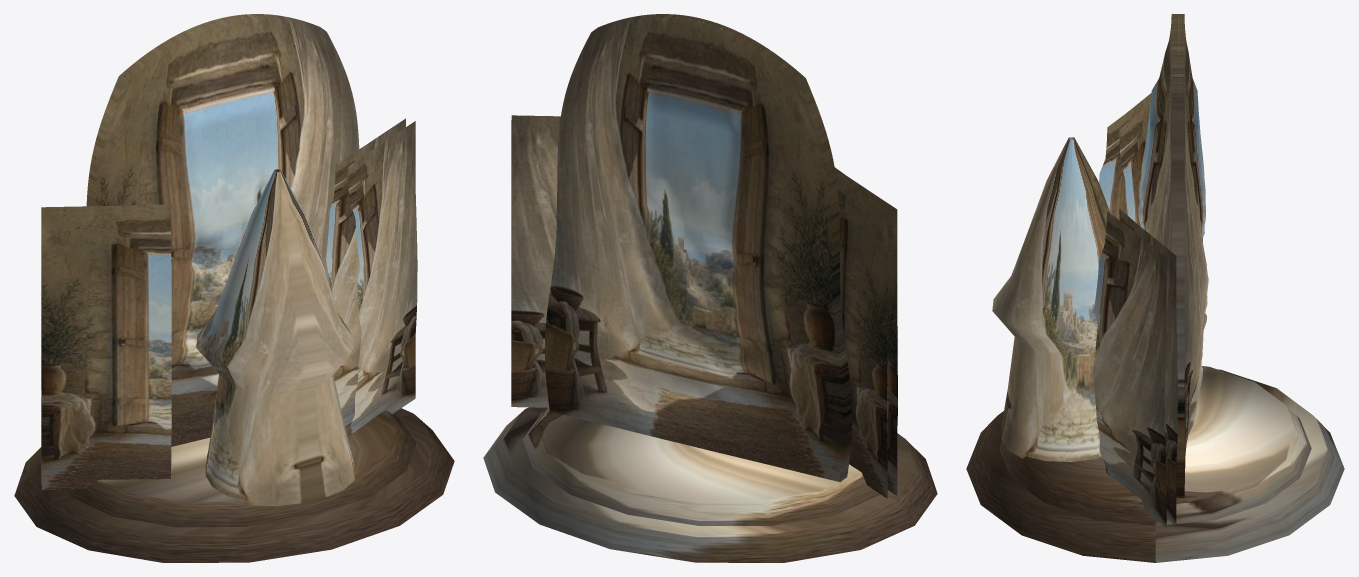
Rendered from little-children-25.glb.
3 views of the same model, side by side, from view 1: azimuth 30°, elevation 25°; view 2: azimuth 150°, elevation 25°; view 3: azimuth 270°, elevation 25° (orthographic). The views are drawn at different scales.
Visible parts, largest first — view 1: PaintingSculptureMonument; view 2: PaintingSculptureMonument; view 3: PaintingSculptureMonument.
Part boxes in pixels (x1,y1,x2,y2): PaintingSculptureMonument: (14,14,454,562); PaintingSculptureMonument: (483,14,937,562); PaintingSculptureMonument: (966,14,1344,562).
Size of the model in its own units: 2.76 by 2.99 by 2.35.
Materials: 1 (1 with a texture image).
